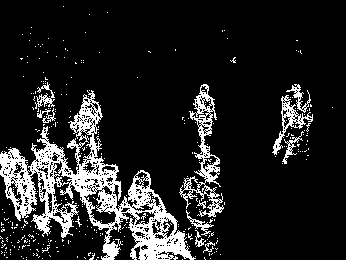person: (31, 137, 79, 237), (180, 156, 223, 251), (84, 162, 126, 256), (125, 170, 167, 253), (132, 210, 192, 260), (70, 90, 106, 163), (1, 147, 35, 223), (189, 82, 218, 160), (288, 91, 314, 165), (275, 82, 300, 157), (34, 78, 57, 141)
